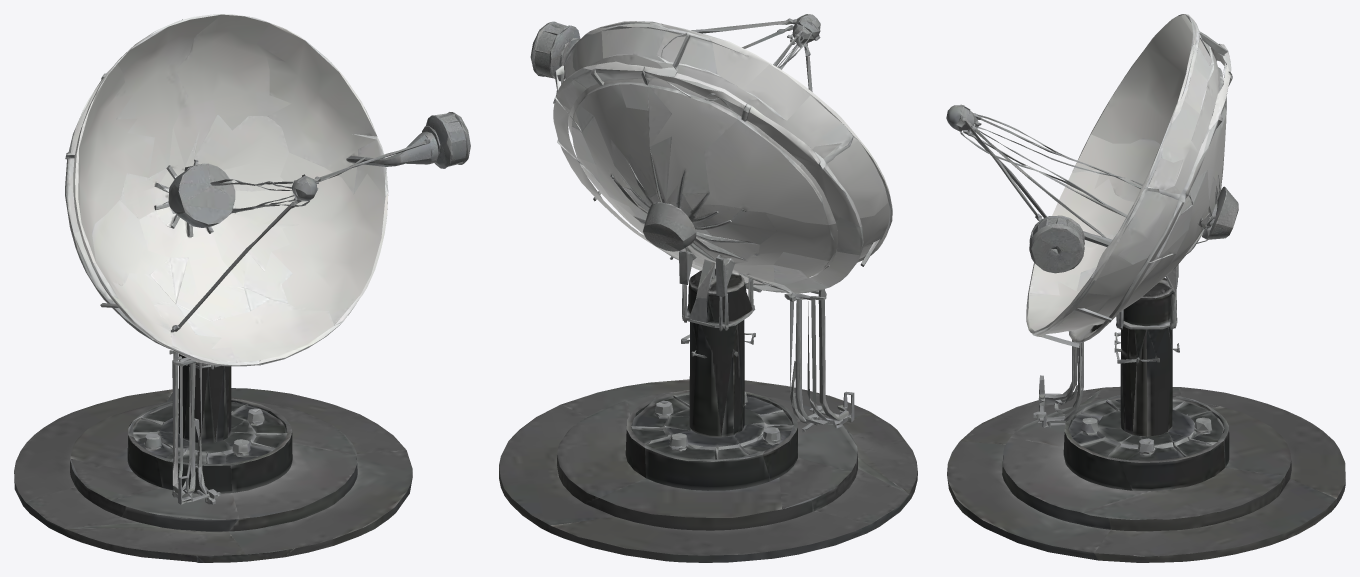
File: radio-dish.glb
3 views of the same model, side by side, from view 1: azimuth 30°, elevation 25°; view 2: azimuth 150°, elevation 25°; view 3: azimuth 270°, elevation 25° (orthographic). The views are drawn at different scales.
Bounding box in the file's own units: 1.68 × 1.9 × 1.54.
1 material, 1 textured.
